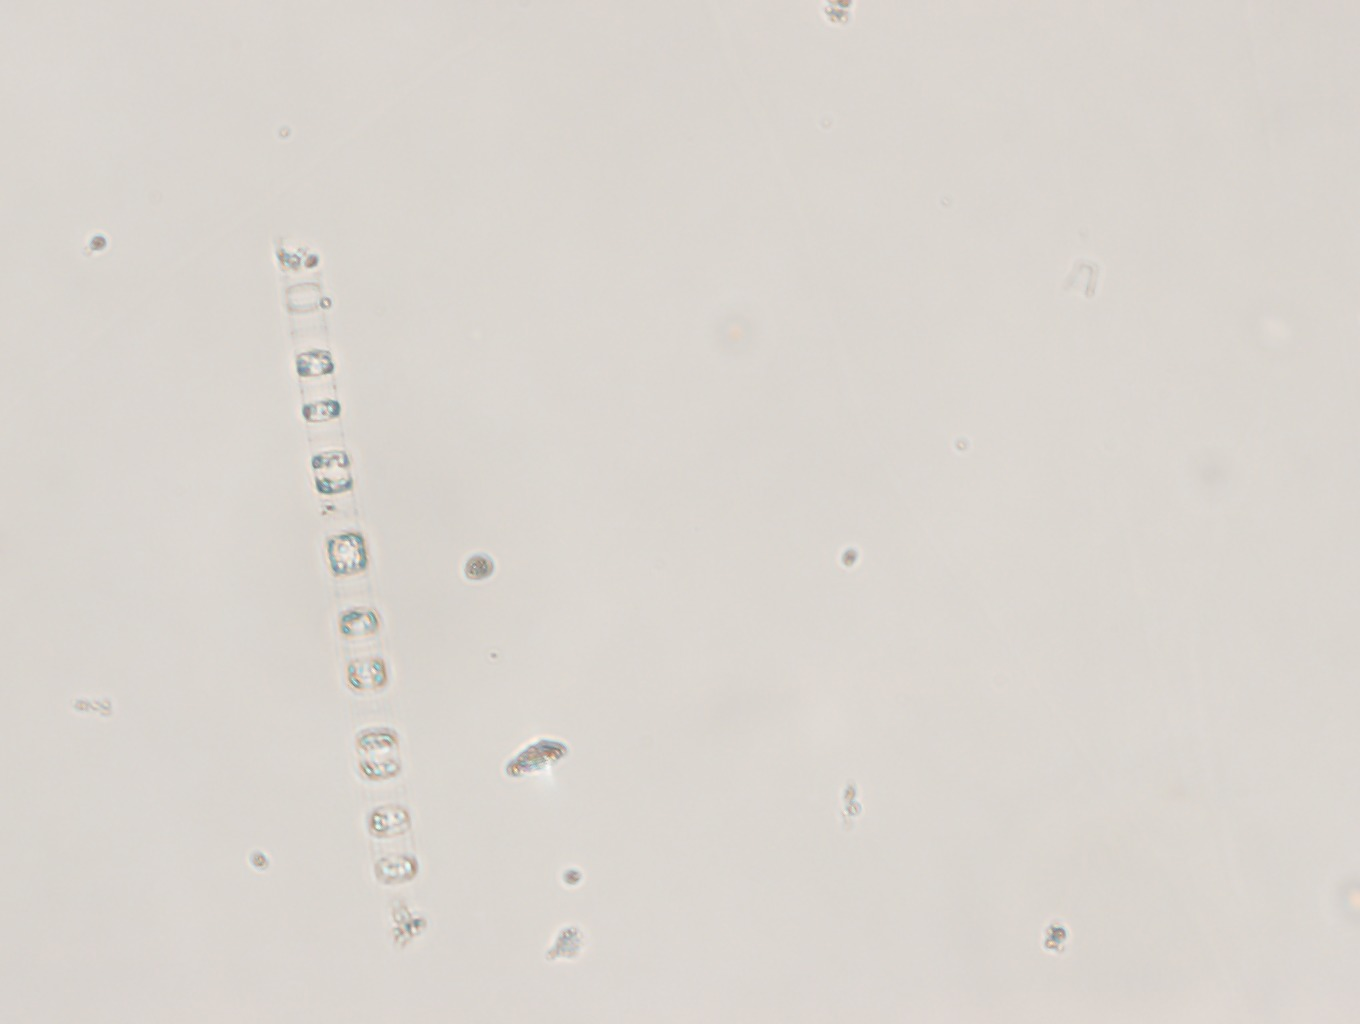skeletonema: (252, 226, 466, 959)
